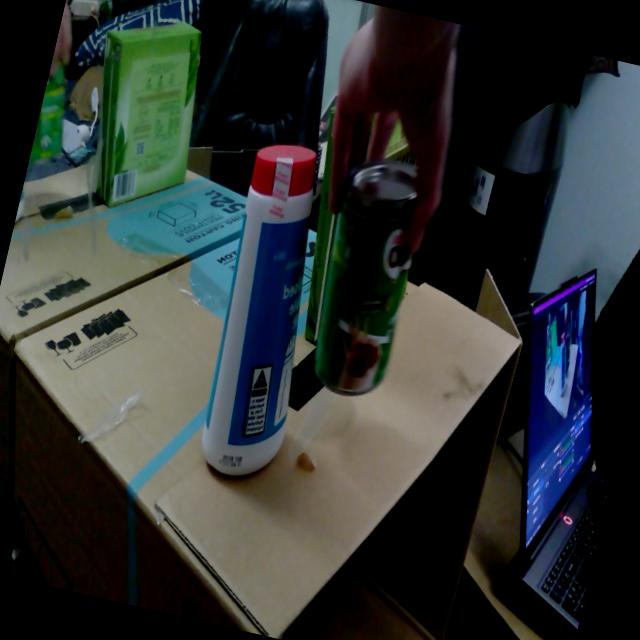nestle_milo_tin: (313, 160, 416, 395)
twinings_greentea_box: (304, 107, 338, 343), (383, 120, 415, 165), (368, 116, 375, 148)
woolworths_salt_bottle: (201, 145, 316, 475)
